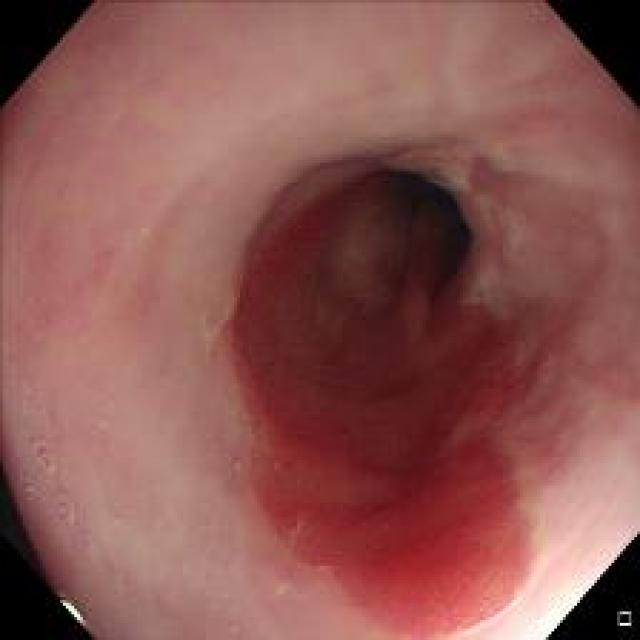bubbles: (55, 489, 84, 540), (76, 528, 108, 571), (30, 439, 64, 472), (19, 376, 35, 419), (18, 472, 39, 502)
color misalignment: (418, 169, 456, 190)
contrast: (345, 168, 469, 270)
specularity: (61, 596, 86, 632)
